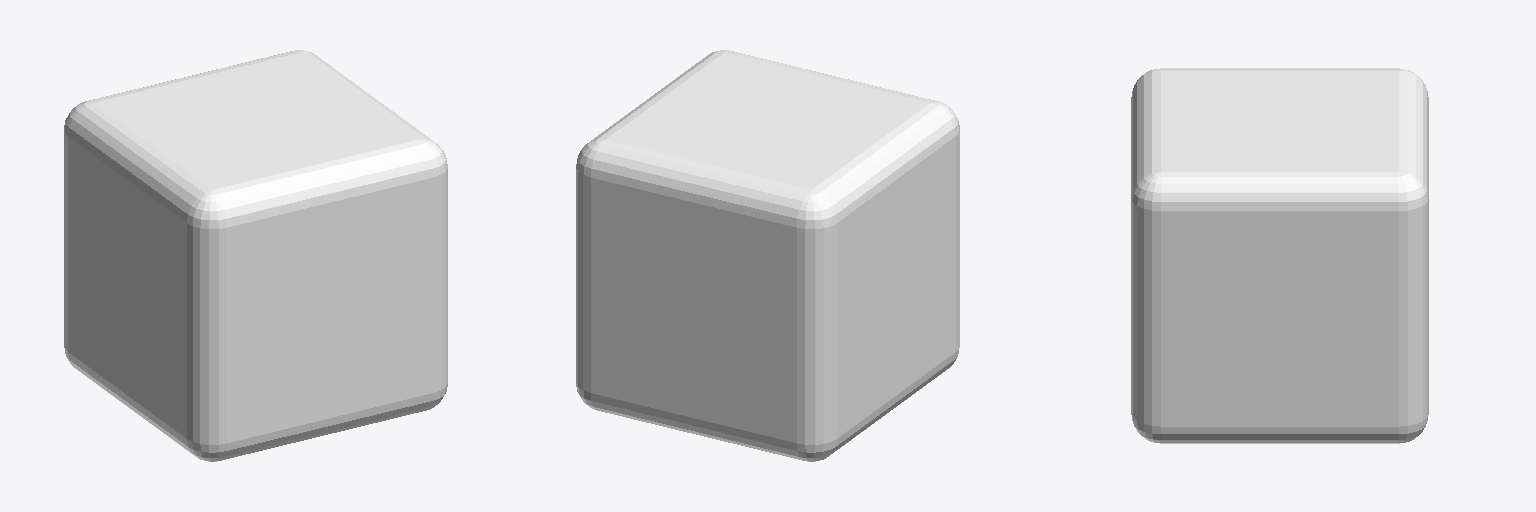
Rendered from lightmapped-cube-export-1.obj.
3 views of the same model, side by side, from view 1: azimuth 30°, elevation 25°; view 2: azimuth 150°, elevation 25°; view 3: azimuth 270°, elevation 25° (orthographic).
Visible parts, largest first — view 1: Cube; view 2: Cube; view 3: Cube.
Part boxes in pixels (left/top/right/bottom): Cube: left=64, top=50, right=447, bottom=461; Cube: left=576, top=50, right=959, bottom=461; Cube: left=1131, top=68, right=1428, bottom=443.
Size of the model in its own units: 10000 by 10000 by 10000.